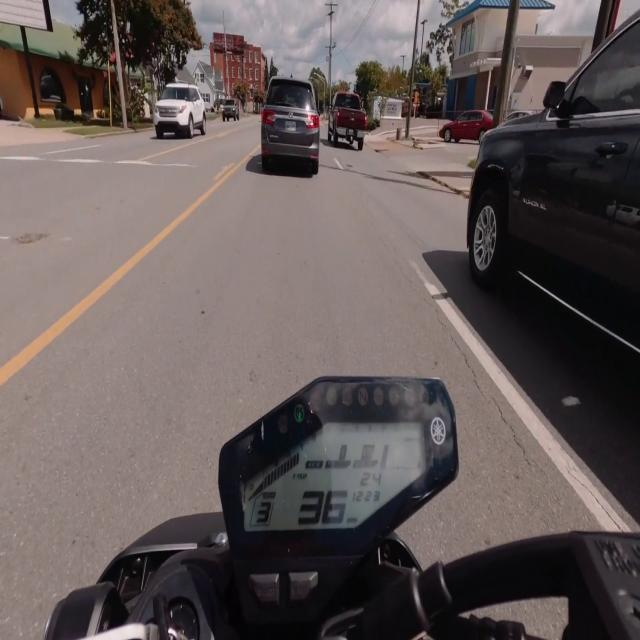car: (467, 12, 639, 352), (261, 76, 319, 174), (153, 82, 206, 138), (325, 89, 370, 149), (439, 110, 494, 142), (222, 98, 240, 121), (501, 110, 532, 123)
motorcycle: (44, 379, 639, 639)
